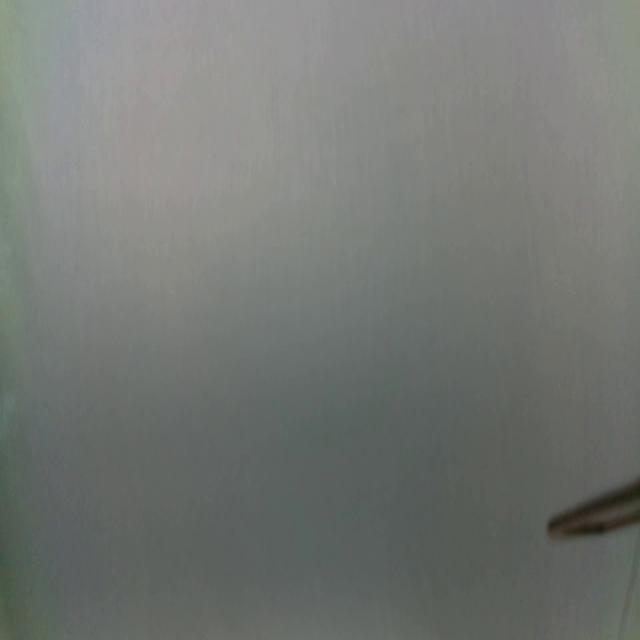crease: (616, 540, 640, 640)
